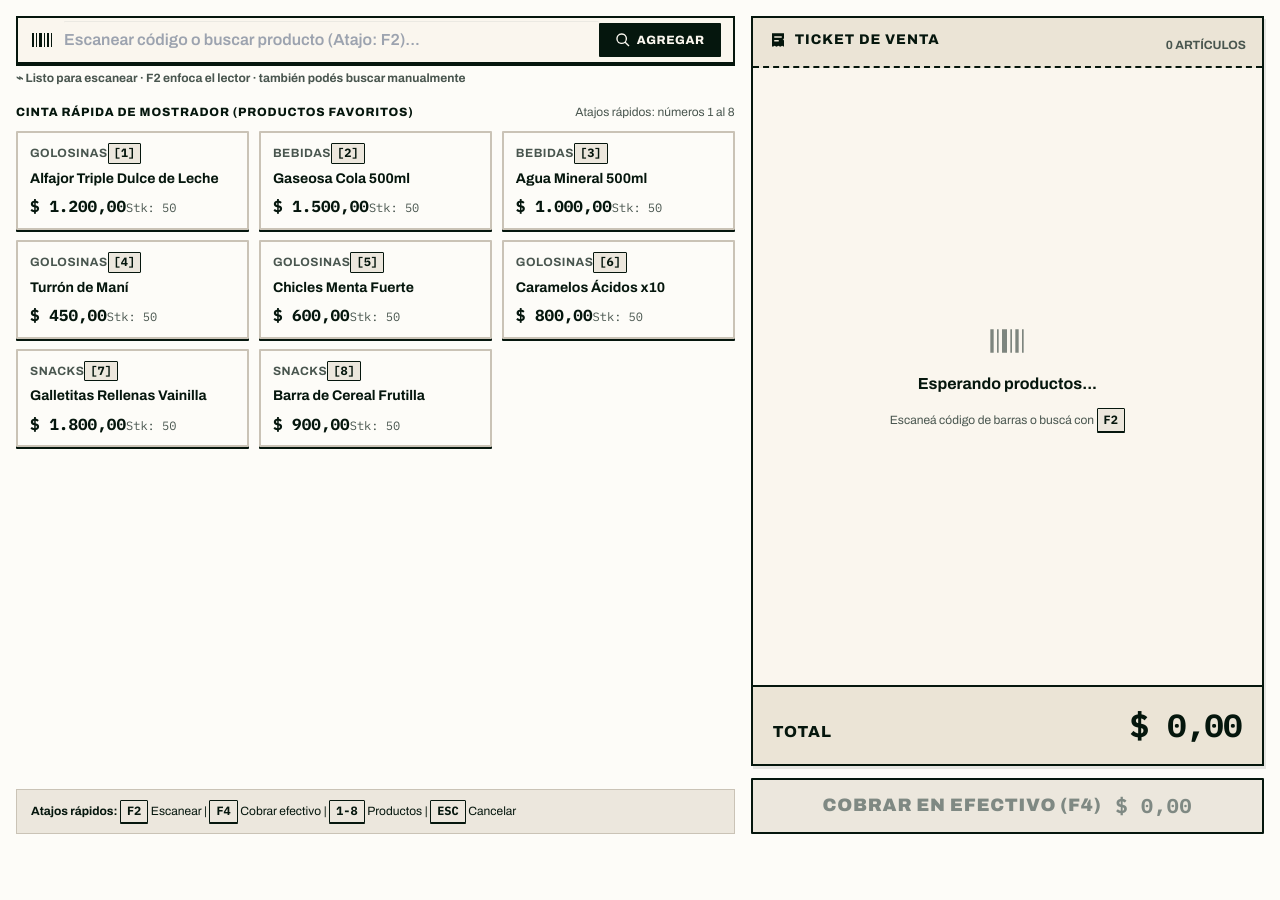
Test: SalesScreen Operational Flow › Dynamic Product Search & Filtering › navigates filtered matches with ArrowDown and ArrowUp and adds on Enter
Type "500ml" into the field with placeholder "Escanear código o buscar producto (Atajo: F2)...".
click(331, 40); type("500ml")  # box [64,21,599,59]
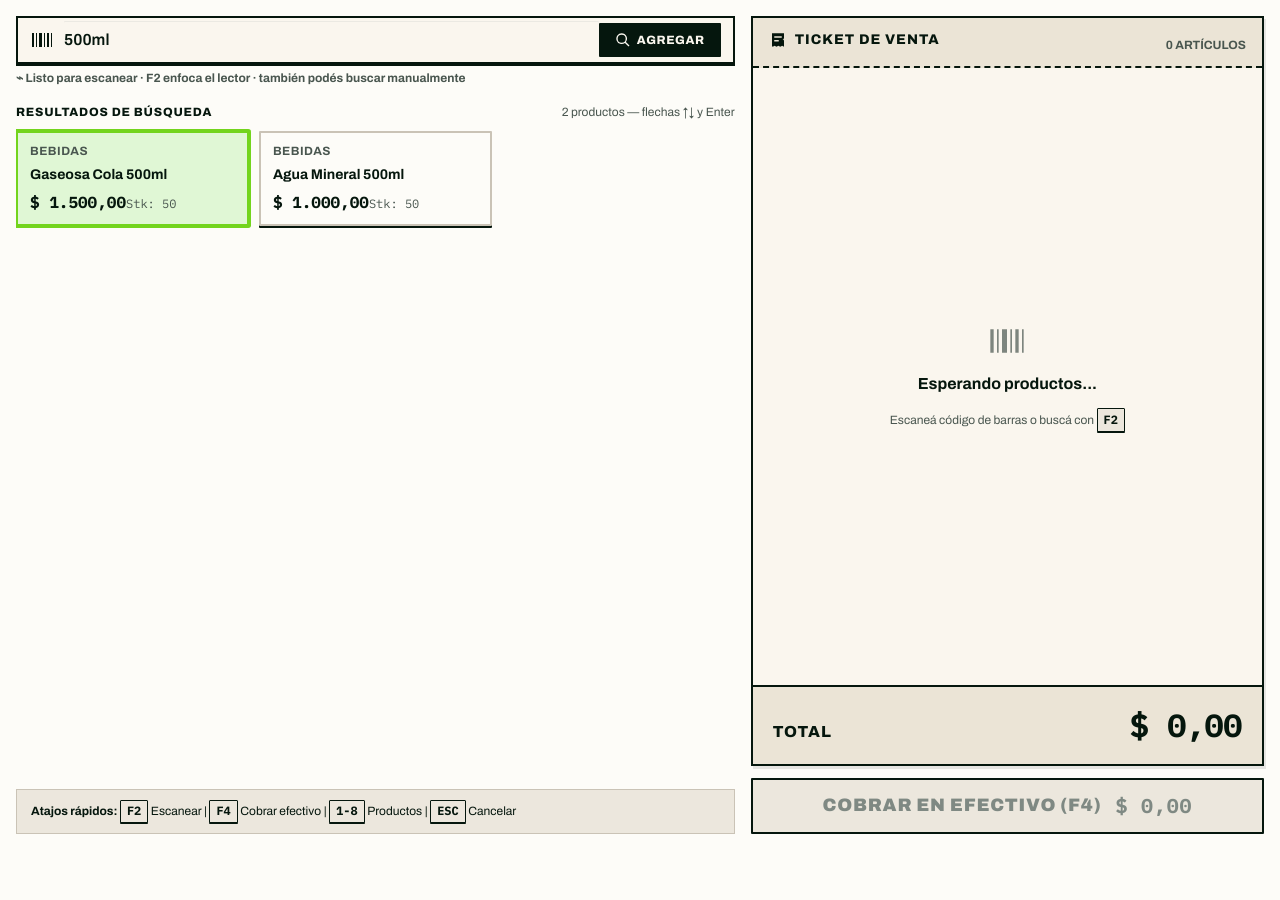
First match is selected by default (index 0). Press ArrowDown to select index 1.
Press ArrowDown in the field with placeholder "Escanear código o buscar producto (Atajo: F2)...", box [64,21,599,59]
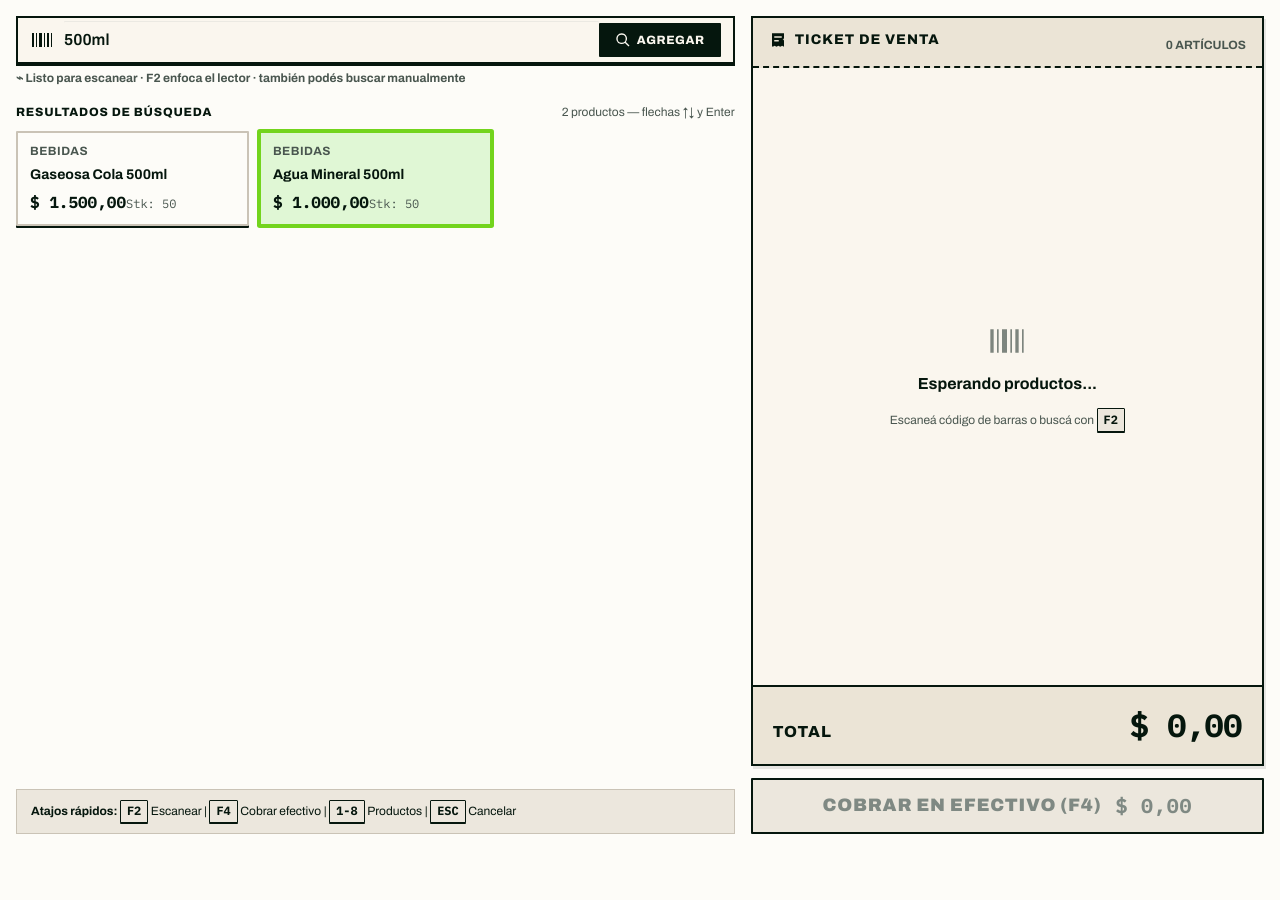
Press Enter to confirm adding the selected product
Press Enter in the field with placeholder "Escanear código o buscar producto (Atajo: F2)...", box [64,21,599,59]
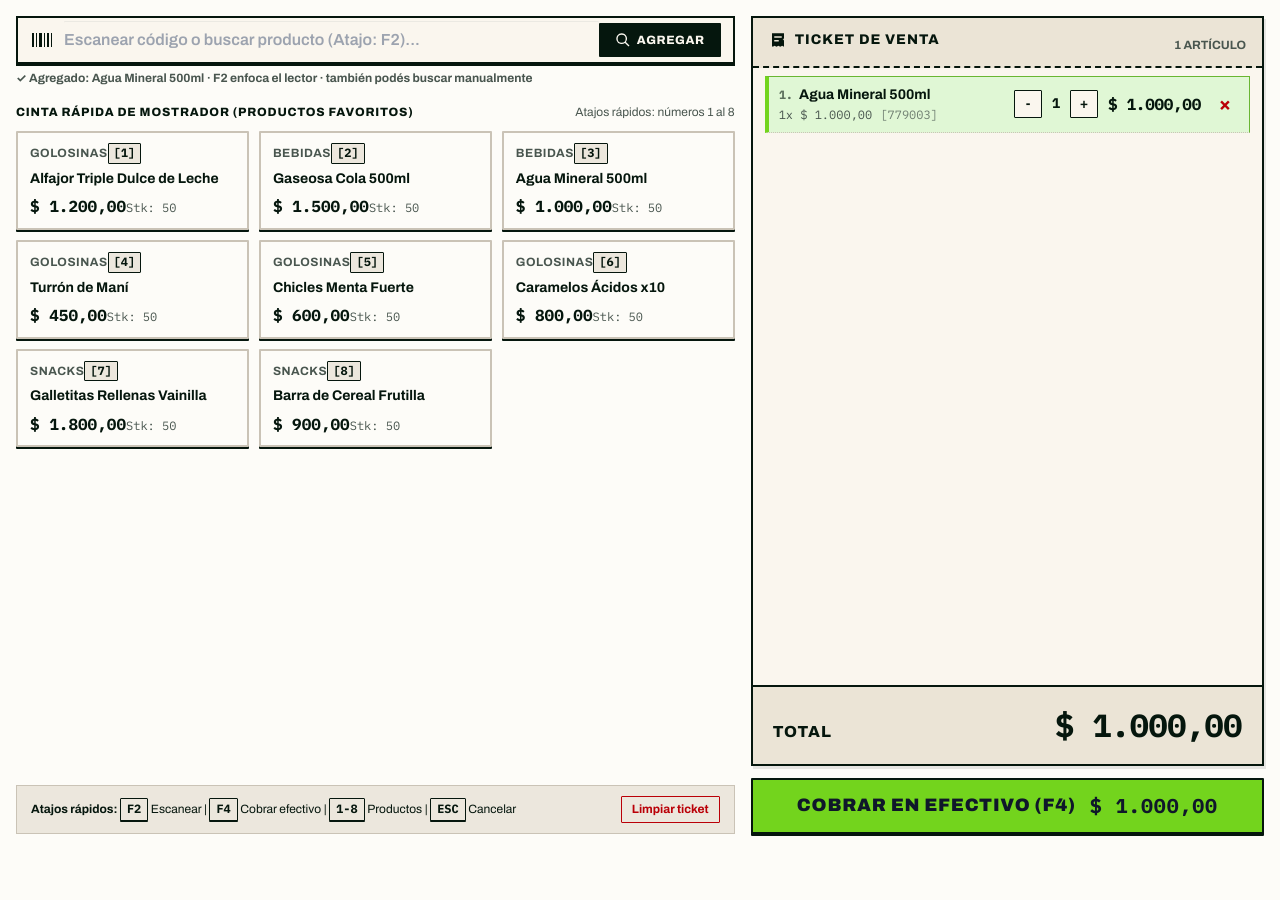
Check: the text "Agua Mineral 500ml" below "Atajos rápidos: números 1 al 8" is shown, box [516,171,647,186]
Check: the field with placeholder "Escanear código o buscar producto (Atajo: F2)..." is empty, box [64,21,599,59]
Check: the text "Alfajor Triple Dulce de Leche" is shown, box [30,170,219,188]
